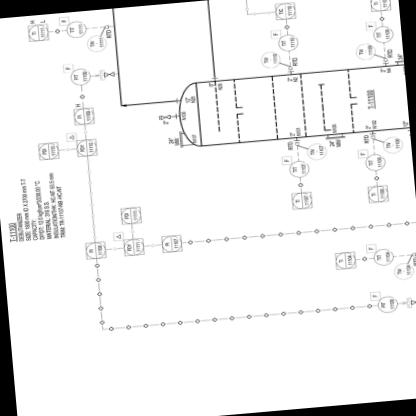LMI: (69, 66, 91, 86), (377, 294, 398, 314), (289, 159, 311, 178), (364, 152, 386, 171), (373, 247, 394, 266), (278, 33, 300, 51), (66, 20, 87, 38), (372, 25, 394, 42)
TAG: (290, 190, 316, 212), (333, 248, 357, 270), (366, 183, 391, 203), (24, 22, 49, 42), (119, 203, 142, 224), (161, 233, 182, 254), (38, 140, 60, 160), (84, 240, 107, 259), (123, 236, 144, 256), (275, 0, 296, 20), (76, 138, 98, 156), (74, 107, 95, 124), (369, 0, 392, 12)
